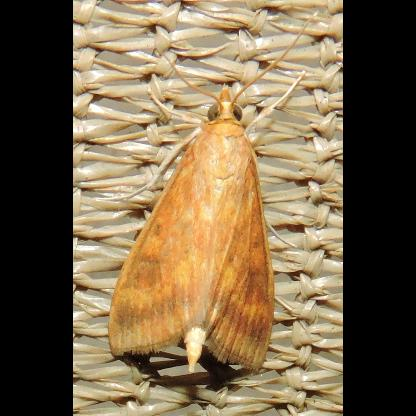Asian Corn Borer Moth: (104, 9, 320, 377)
